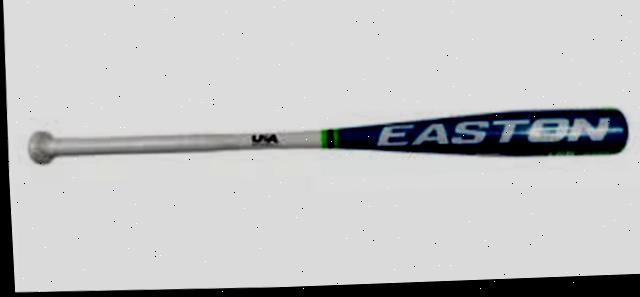baseball bat: (25, 100, 627, 175)
